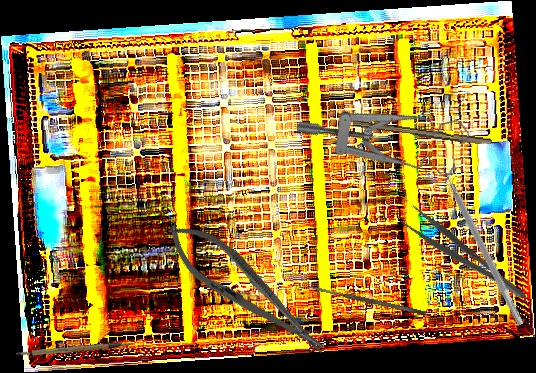Dressing Forceps: (398, 202, 530, 313)
Needle Holder: (155, 209, 338, 370)
Scalpel Handle: (351, 119, 493, 148), (15, 335, 134, 366)
Spatula Surgical: (435, 157, 532, 327), (306, 283, 428, 317)
Speculum: (294, 50, 479, 213)
